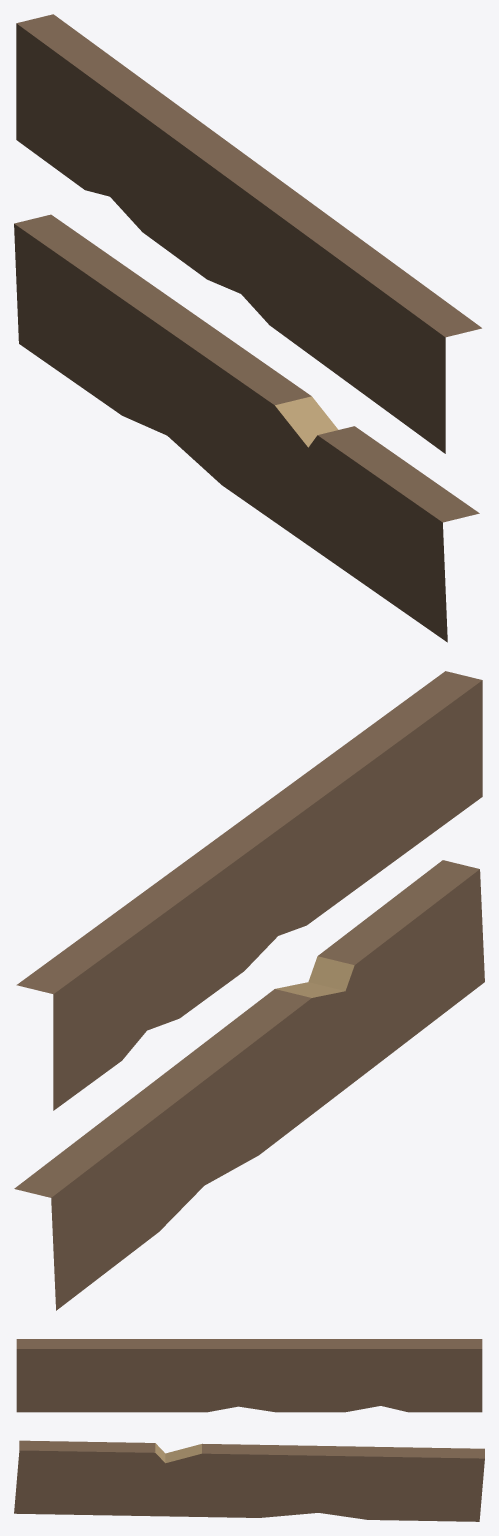
Rendered from Cave_Prop_Support_Wall_Boards_4.glb.
3 views of the same model, one above another, from view 1: azimuth 30°, elevation 25°; view 2: azimuth 150°, elevation 25°; view 3: azimuth 270°, elevation 25° (orthographic). The views are drawn at different scales.
Parts seen in each view (by area): view 1: Cave_Prop_Support_Wall_Boards_4; view 2: Cave_Prop_Support_Wall_Boards_4; view 3: Cave_Prop_Support_Wall_Boards_4.
Boxes of the visible parts, <box> form: Cave_Prop_Support_Wall_Boards_4: <box>14,14,481,642</box>; Cave_Prop_Support_Wall_Boards_4: <box>14,671,484,1310</box>; Cave_Prop_Support_Wall_Boards_4: <box>14,1339,484,1521</box>.
Bounding box in the file's own units: 0.1 × 0.8191 × 2.02.
